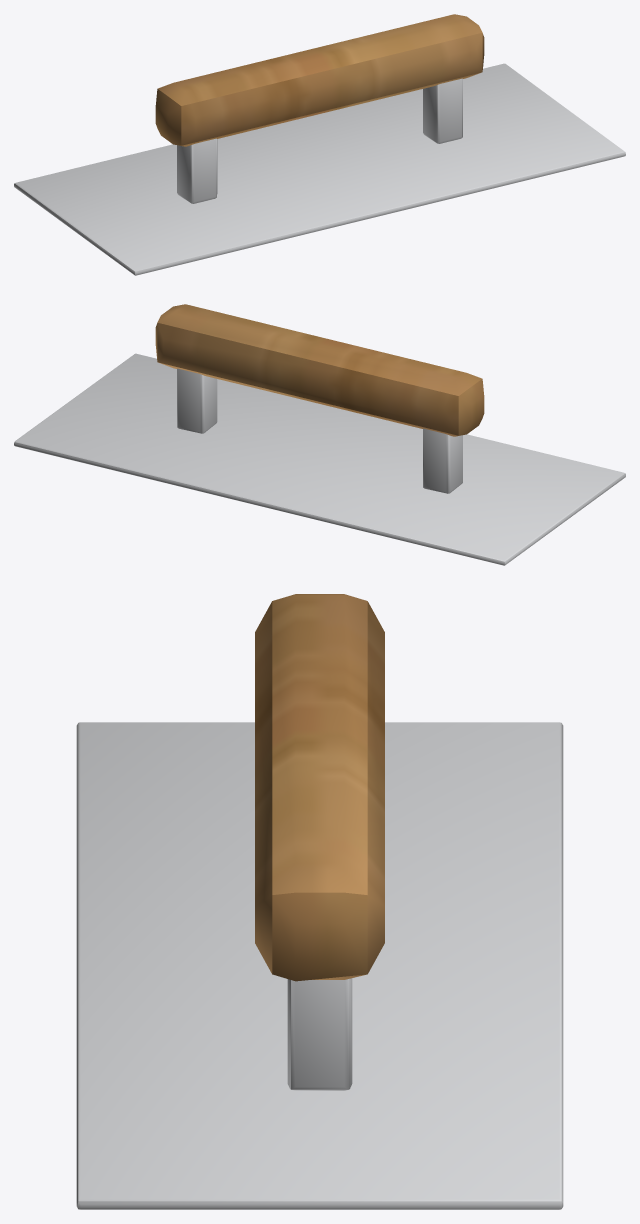
Rendered from PIN-FER-005_lod1.glb.
3 views of the same model, one above another, from view 1: azimuth 30°, elevation 25°; view 2: azimuth 150°, elevation 25°; view 3: azimuth 270°, elevation 25° (orthographic). The views are drawn at different scales.
Parts seen in each view (by area): view 1: PIN-FER-005_chapa, PIN-FER-005_cabo, PIN-FER-005_apoio-1, PIN-FER-005_apoio1; view 2: PIN-FER-005_chapa, PIN-FER-005_cabo, PIN-FER-005_apoio1, PIN-FER-005_apoio-1; view 3: PIN-FER-005_chapa, PIN-FER-005_cabo, PIN-FER-005_apoio1.
Boxes of the visible parts, left/top/right/bottom form: PIN-FER-005_chapa: left=14, top=63, right=625, bottom=275; PIN-FER-005_cabo: left=155, top=14, right=484, bottom=146; PIN-FER-005_apoio-1: left=177, top=138, right=217, bottom=203; PIN-FER-005_apoio1: left=423, top=78, right=462, bottom=143; PIN-FER-005_chapa: left=14, top=353, right=625, bottom=565; PIN-FER-005_cabo: left=155, top=304, right=484, bottom=436; PIN-FER-005_apoio1: left=177, top=368, right=217, bottom=433; PIN-FER-005_apoio-1: left=423, top=428, right=462, bottom=493; PIN-FER-005_chapa: left=76, top=722, right=563, bottom=1209; PIN-FER-005_cabo: left=255, top=594, right=384, bottom=981; PIN-FER-005_apoio1: left=287, top=978, right=352, bottom=1090.
Size of the model in its own units: 0.28 by 0.065 by 0.12.
Materials: 2 (1 with a texture image).
